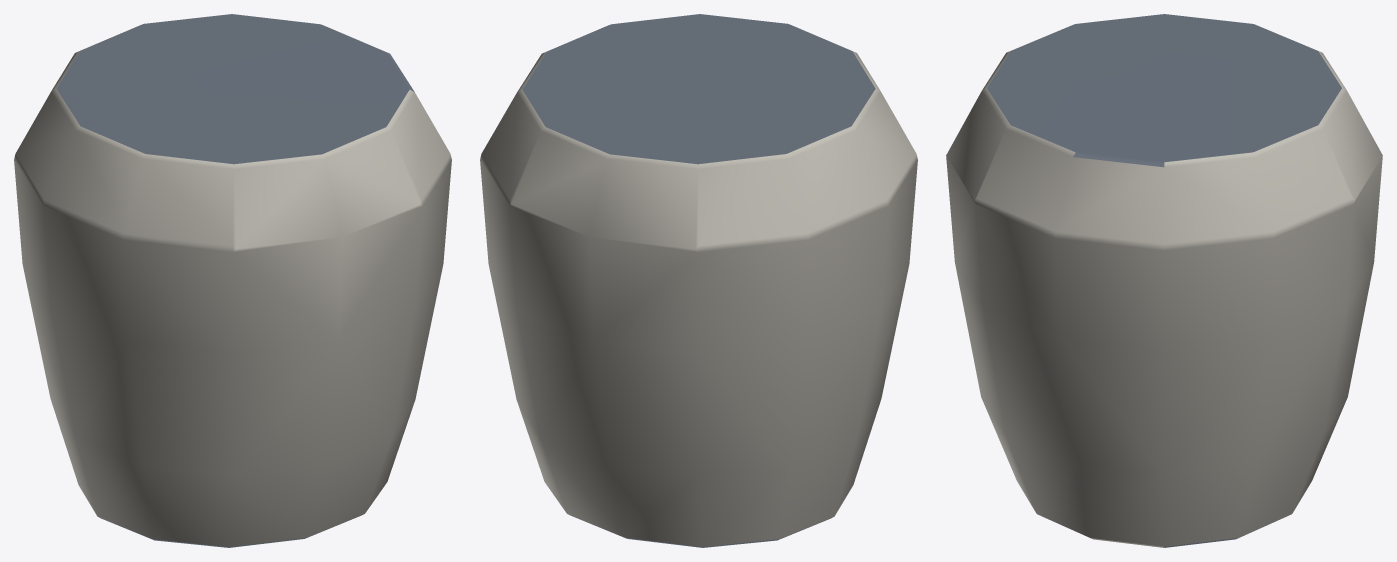
The model's file is thigh.glb.
The picture shows the model from 3 angles, left to right: view 1: azimuth 30°, elevation 25°; view 2: azimuth 150°, elevation 25°; view 3: azimuth 270°, elevation 25°; orthographic projection.
Parts seen in each view (by area): view 1: thigh; view 2: thigh; view 3: thigh.
Part boxes in pixels (bbox=[...]): thigh: bbox=[14, 14, 451, 547]; thigh: bbox=[480, 14, 917, 547]; thigh: bbox=[946, 14, 1382, 547].
Size of the model in its own units: 0.9988 by 1 by 1.
